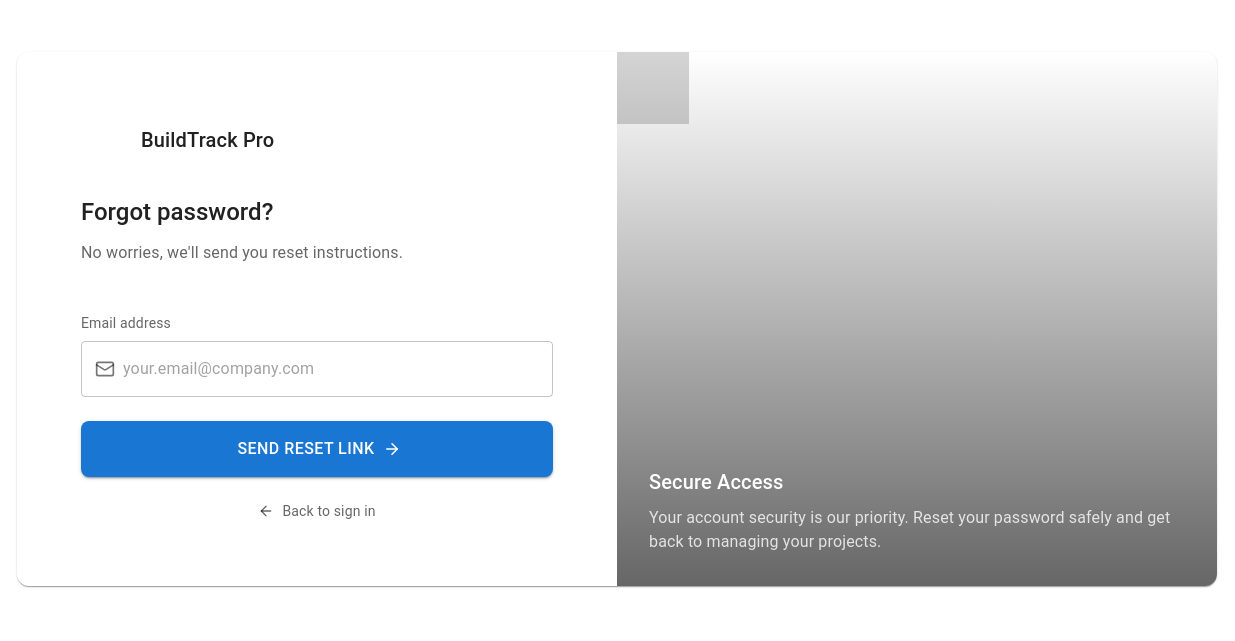
Scenario: ForgotPasswordPage › displays error on non-ok fetch response
Step 1. Type "nonexistent@example.com" into the field named "email address" → (338, 368), box [123,340,553,396]
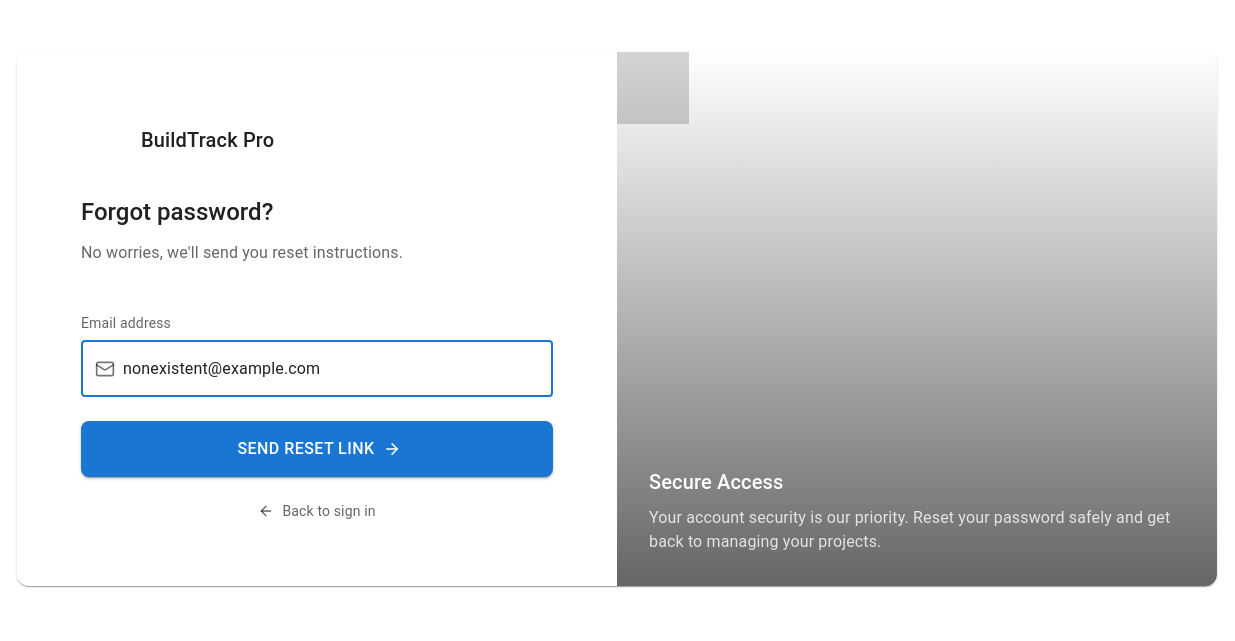
Step 2. Click the button "Send reset link" → (317, 448), box [81,420,553,476]
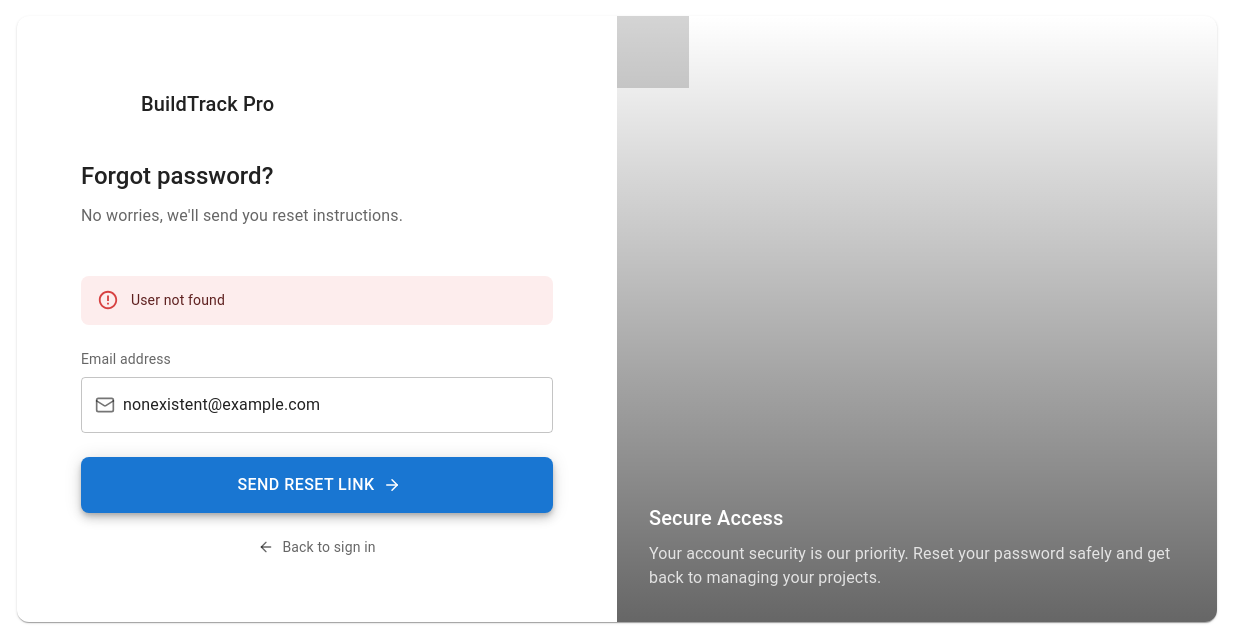
Check: the text "User not found" is shown, box [131,292,225,308]
